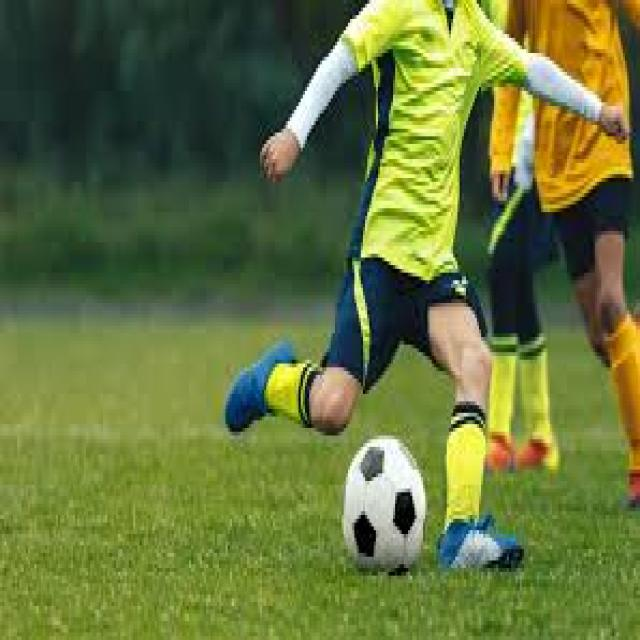ball: (343, 438, 427, 576)
